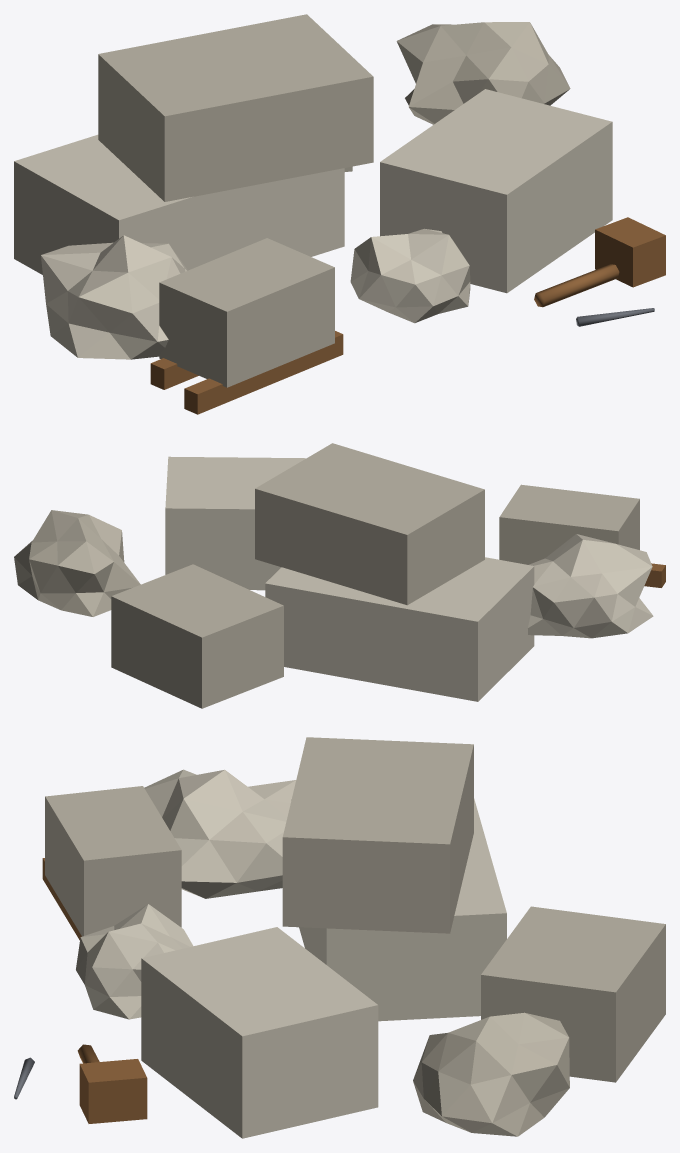
The model's file is resource_stone.fbx.
3 renders of one model, top to bottom at view 1: azimuth 30°, elevation 25°; view 2: azimuth 150°, elevation 25°; view 3: azimuth 270°, elevation 25°, orthographic. The views are drawn at different scales.
Visible parts, largest first — view 1: resource_stone_stone_00, resource_stone_stone2_01, resource_stone_wood#8a6038_02, resource_stone_chisel_03; view 2: resource_stone_stone2_01, resource_stone_stone_00, resource_stone_wood#8a6038_02; view 3: resource_stone_stone2_01, resource_stone_stone_00, resource_stone_wood#8a6038_02.
Part boxes in pixels (<box>): resource_stone_stone_00: <box>14,89,612,359</box>; resource_stone_stone2_01: <box>98,14,570,387</box>; resource_stone_wood#8a6038_02: <box>150,217,665,414</box>; resource_stone_chisel_03: <box>576,308,654,326</box>; resource_stone_stone2_01: <box>14,443,639,708</box>; resource_stone_stone_00: <box>165,456,653,701</box>; resource_stone_wood#8a6038_02: <box>644,563,665,587</box>; resource_stone_stone2_01: <box>45,737,665,1136</box>; resource_stone_stone_00: <box>76,769,506,1138</box>; resource_stone_wood#8a6038_02: <box>42,858,147,1123</box>.
Bounding box in the file's own units: 109 × 30.18 × 93.54.
